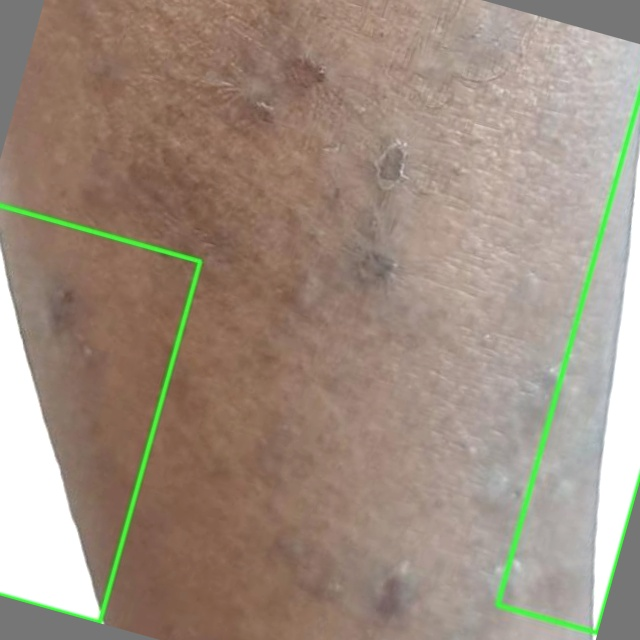Atopic Dermatitis: (0, 205, 200, 622)
